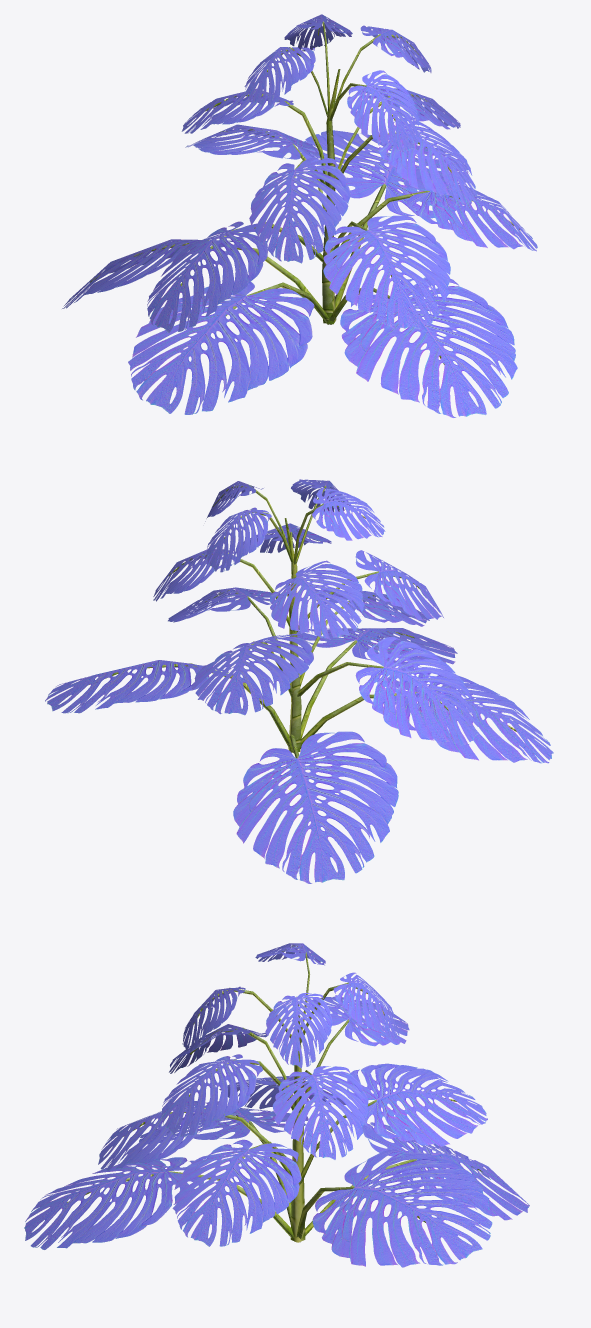
File: plant2.obj
3 renders of one model, top to bottom at view 1: azimuth 30°, elevation 25°; view 2: azimuth 150°, elevation 25°; view 3: azimuth 270°, elevation 25°, orthographic. The views are drawn at different scales.
Parts seen in each view (by area): view 1: Cylinder_Cylinder.016; view 2: Cylinder_Cylinder.016; view 3: Cylinder_Cylinder.016.
Boxes of the visible parts, bbox=[...] form: Cylinder_Cylinder.016: bbox=[62, 14, 537, 417]; Cylinder_Cylinder.016: bbox=[45, 479, 553, 883]; Cylinder_Cylinder.016: bbox=[24, 943, 529, 1267].
Size of the model in its own units: 4.56 by 2.87 by 4.49.
